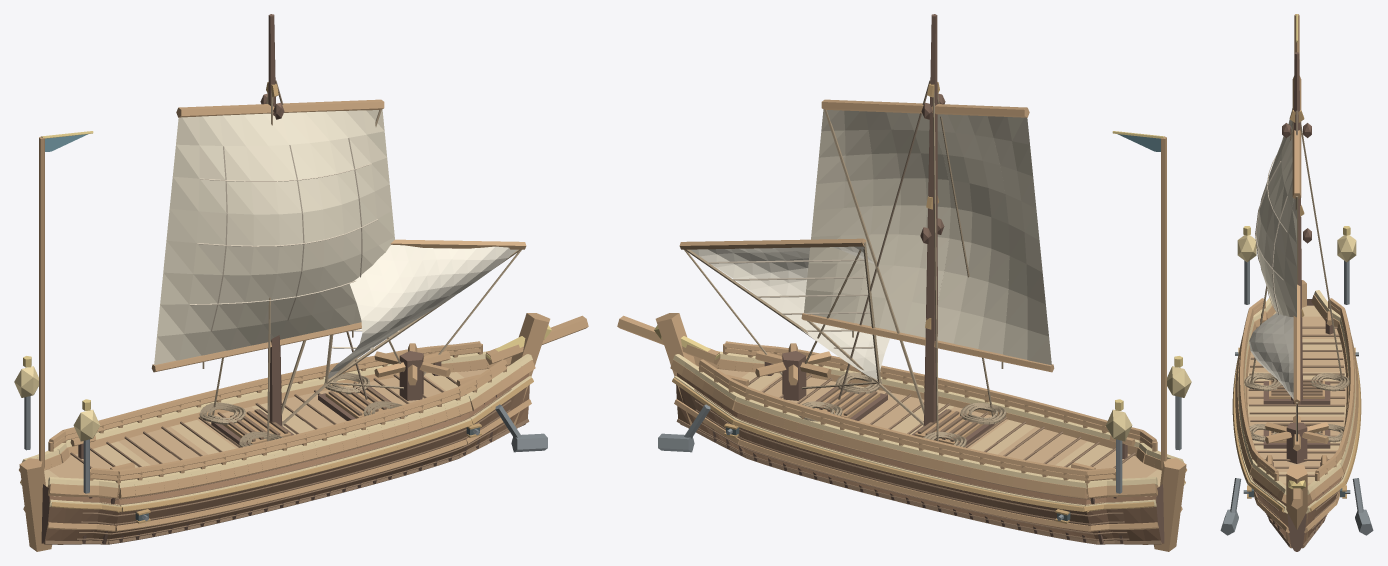
The model's file is bermuda_sloop-v5-mobile.glb.
The picture shows the model from 3 angles, left to right: view 1: azimuth 30°, elevation 25°; view 2: azimuth 150°, elevation 25°; view 3: azimuth 270°, elevation 25°; orthographic projection. The views are drawn at different scales.
Parts seen in each view (by area): view 1: bermuda_sloop_sails_sail, bermuda_sloop_hull_wood, bermuda_sloop_railings_wood, bermuda_sloop_sails_sailbright, bermuda_sloop_hull_seam, bermuda_sloop_hull_pale, bermuda_sloop_hull_hull2, bermuda_sloop_hull_hull, bermuda_sloop_hull_deck, bermuda_sloop_rigging_wood, bermuda_sloop_hull_bronze, bermuda_sloop_fittings_wood (+11 smaller); view 2: bermuda_sloop_sails_sail, bermuda_sloop_hull_wood, bermuda_sloop_railings_wood, bermuda_sloop_hull_seam, bermuda_sloop_hull_pale, bermuda_sloop_sails_sailbright, bermuda_sloop_hull_hull2, bermuda_sloop_rigging_wood, bermuda_sloop_hull_hull, bermuda_sloop_hull_deck, bermuda_sloop_masts_darkwood, bermuda_sloop_rigging_rope (+13 smaller); view 3: bermuda_sloop_sails_sail, bermuda_sloop_hull_wood, bermuda_sloop_hull_deck, bermuda_sloop_railings_wood, bermuda_sloop_hull_seam, bermuda_sloop_sails_sailbright, bermuda_sloop_hull_decklight, bermuda_sloop_hull_pale, bermuda_sloop_fittings_iron, bermuda_sloop_rigging_wood, bermuda_sloop_fittings_darkwood, bermuda_sloop_fittings_wood (+12 smaller).
Part boxes in pixels (box(x1,y1,x2,y2)): bermuda_sloop_sails_sail: box(154, 109, 394, 365); bermuda_sloop_hull_wood: box(19, 313, 588, 551); bermuda_sloop_railings_wood: box(48, 341, 507, 493); bermuda_sloop_sails_sailbright: box(328, 244, 517, 378); bermuda_sloop_hull_seam: box(44, 374, 529, 544); bermuda_sloop_hull_pale: box(21, 351, 532, 506); bermuda_sloop_hull_hull2: box(45, 373, 528, 540); bermuda_sloop_hull_hull: box(42, 385, 529, 543); bermuda_sloop_hull_deck: box(48, 365, 508, 495); bermuda_sloop_rigging_wood: box(151, 99, 526, 372); bermuda_sloop_hull_bronze: box(20, 378, 533, 512); bermuda_sloop_fittings_wood: box(70, 343, 479, 469); bermuda_sloop_sails_sail: box(804, 109, 1051, 365); bermuda_sloop_hull_wood: box(617, 313, 1186, 551); bermuda_sloop_railings_wood: box(698, 341, 1157, 493); bermuda_sloop_hull_seam: box(676, 374, 1161, 544); bermuda_sloop_hull_pale: box(673, 351, 1184, 511); bermuda_sloop_sails_sailbright: box(690, 246, 889, 379); bermuda_sloop_hull_hull2: box(677, 373, 1160, 540); bermuda_sloop_rigging_wood: box(679, 99, 1054, 372); bermuda_sloop_hull_hull: box(676, 385, 1163, 543); bermuda_sloop_hull_deck: box(697, 365, 1157, 495); bermuda_sloop_masts_darkwood: box(920, 14, 945, 425); bermuda_sloop_rigging_rope: box(684, 109, 1003, 425); bermuda_sloop_sails_sail: box(1256, 108, 1296, 317); bermuda_sloop_hull_wood: box(1235, 280, 1358, 540); bermuda_sloop_hull_deck: box(1247, 316, 1346, 485); bermuda_sloop_railings_wood: box(1239, 298, 1354, 481); bermuda_sloop_hull_seam: box(1248, 326, 1345, 548); bermuda_sloop_sails_sailbright: box(1249, 313, 1293, 399); bermuda_sloop_hull_decklight: box(1247, 305, 1346, 483); bermuda_sloop_hull_pale: box(1236, 290, 1357, 513); bermuda_sloop_fittings_iron: box(1220, 260, 1373, 535); bermuda_sloop_rigging_wood: box(1292, 76, 1301, 404); bermuda_sloop_fittings_darkwood: box(1260, 318, 1333, 466); bermuda_sloop_fittings_wood: box(1261, 311, 1332, 465).
Bounding box in the file's own units: 33.26 × 27.09 × 9.33.
